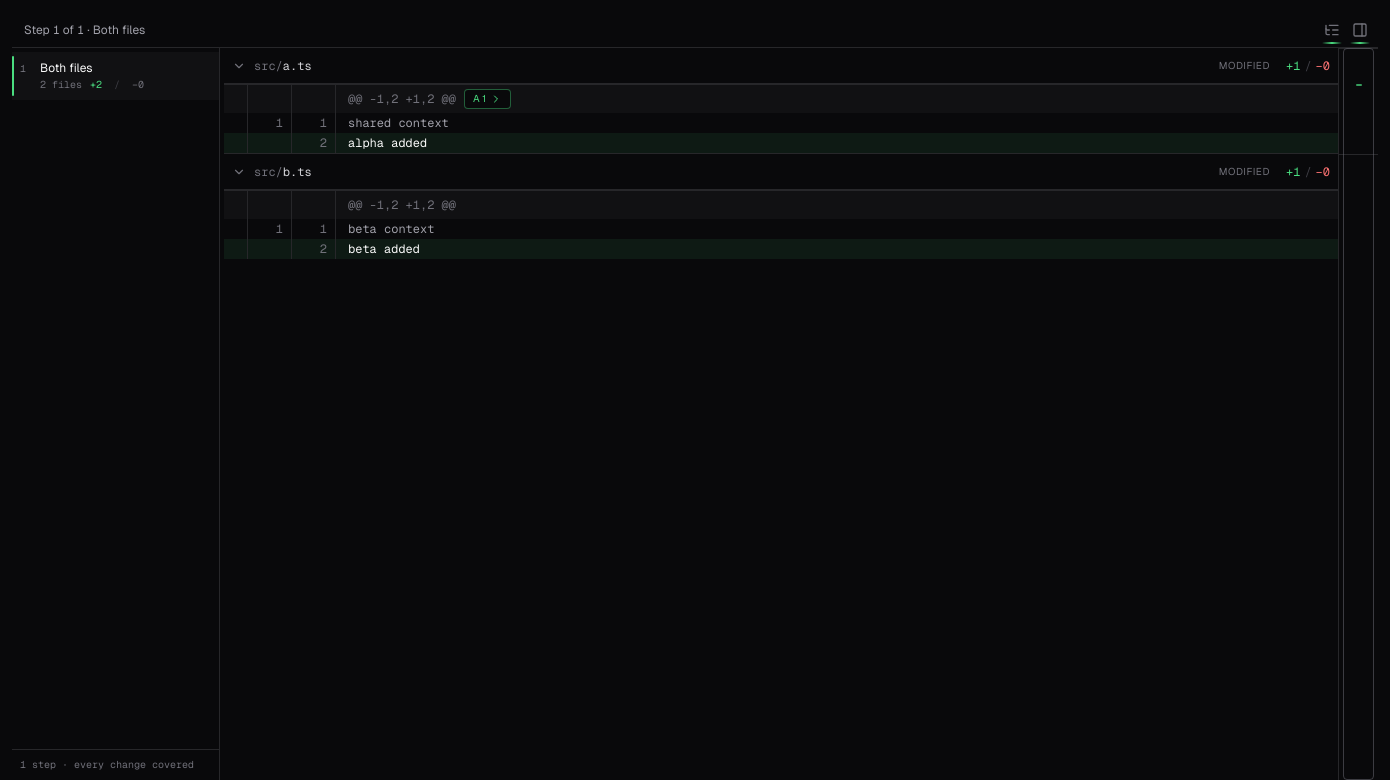
Test: DiffView › path mode opens a step's files together without a focus toggle
Expected: the navigation bar named "Semantic change map" is shown, [1338,48,1378,779]
Expected: the text "alpha added" is shown, [348,135,427,151]
Click the button "src/ a.ts Modified +1/−0": (1244, 65) [224,48,1338,84]
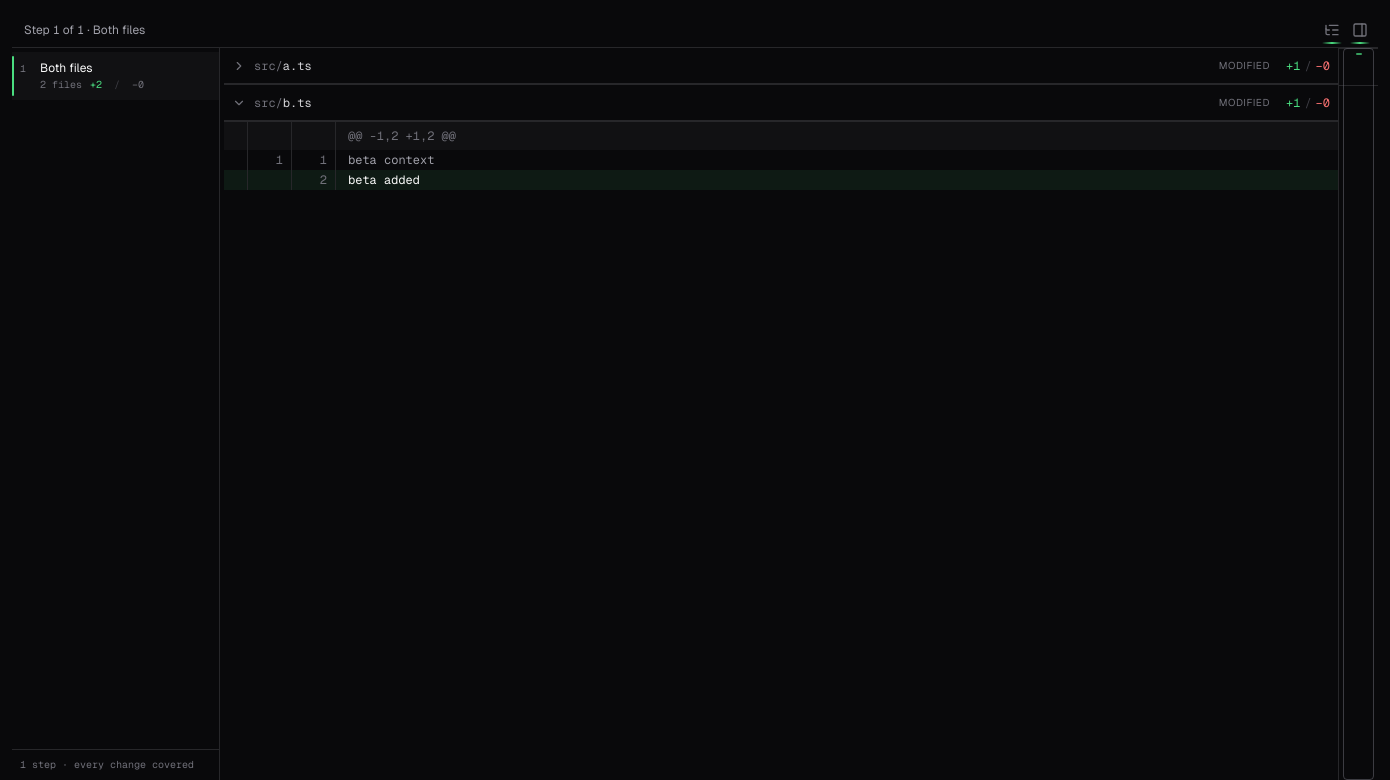
Expected: the text "beta added" is shown, [348,172,420,188]
Expected: the text "alpha added" is gone
